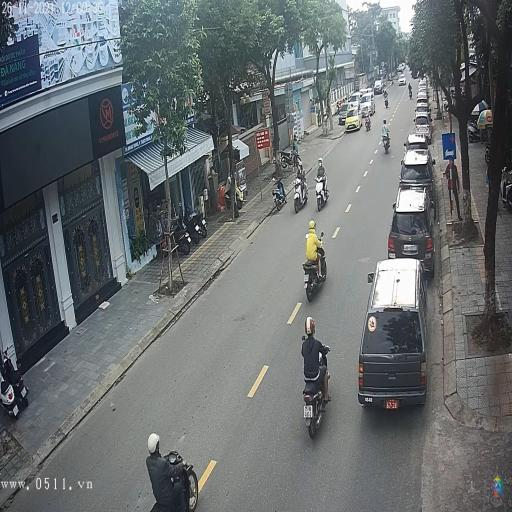car: (359, 259, 428, 410), (388, 191, 434, 279), (400, 150, 435, 189), (414, 116, 431, 135), (374, 79, 386, 93)
motorcycle: (302, 368, 332, 438), (302, 251, 328, 303), (293, 176, 309, 214), (316, 180, 330, 210), (382, 133, 392, 158)
